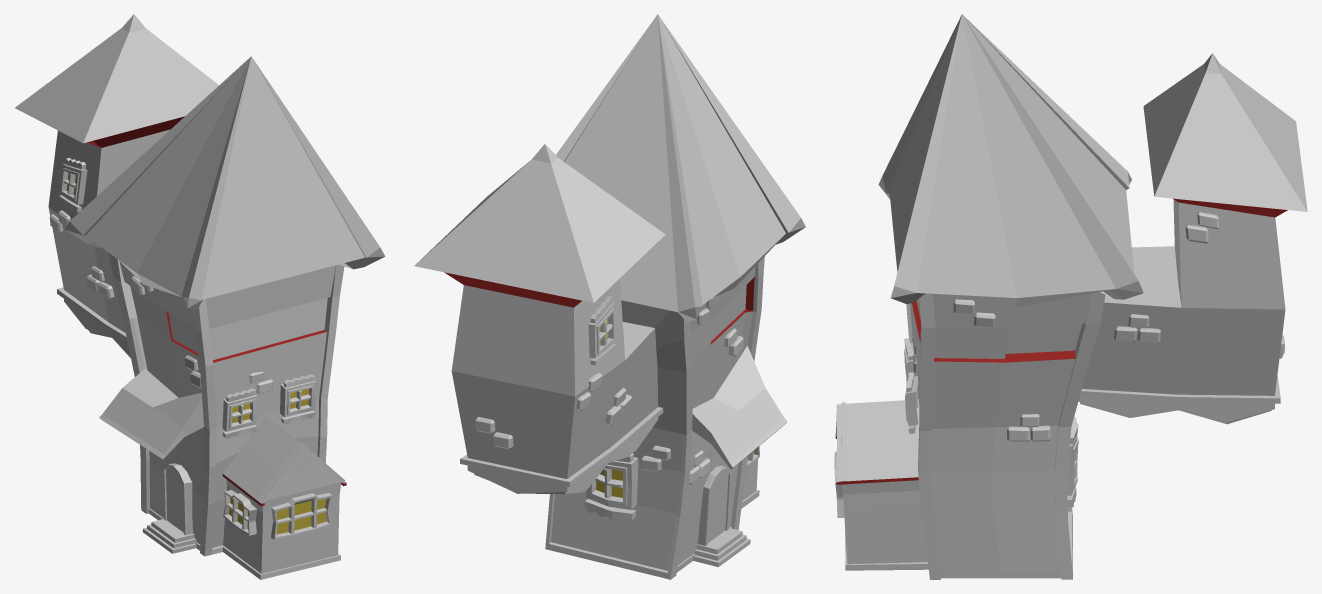
File: House_MagicHouse.fbx
3 renders of one model, left to right at view 1: azimuth 30°, elevation 25°; view 2: azimuth 150°, elevation 25°; view 3: azimuth 270°, elevation 25°, orthographic. The views are drawn at different scales.
Visible parts, largest first — view 1: Magic Tower; view 2: Magic Tower; view 3: Magic Tower.
Boxes of the visible parts, box(x1,y1,x2,y2) form: Magic Tower: box(15, 14, 385, 579); Magic Tower: box(414, 14, 805, 579); Magic Tower: box(834, 14, 1307, 579).
Bounding box in the file's own units: 589 × 1250 × 1001.
